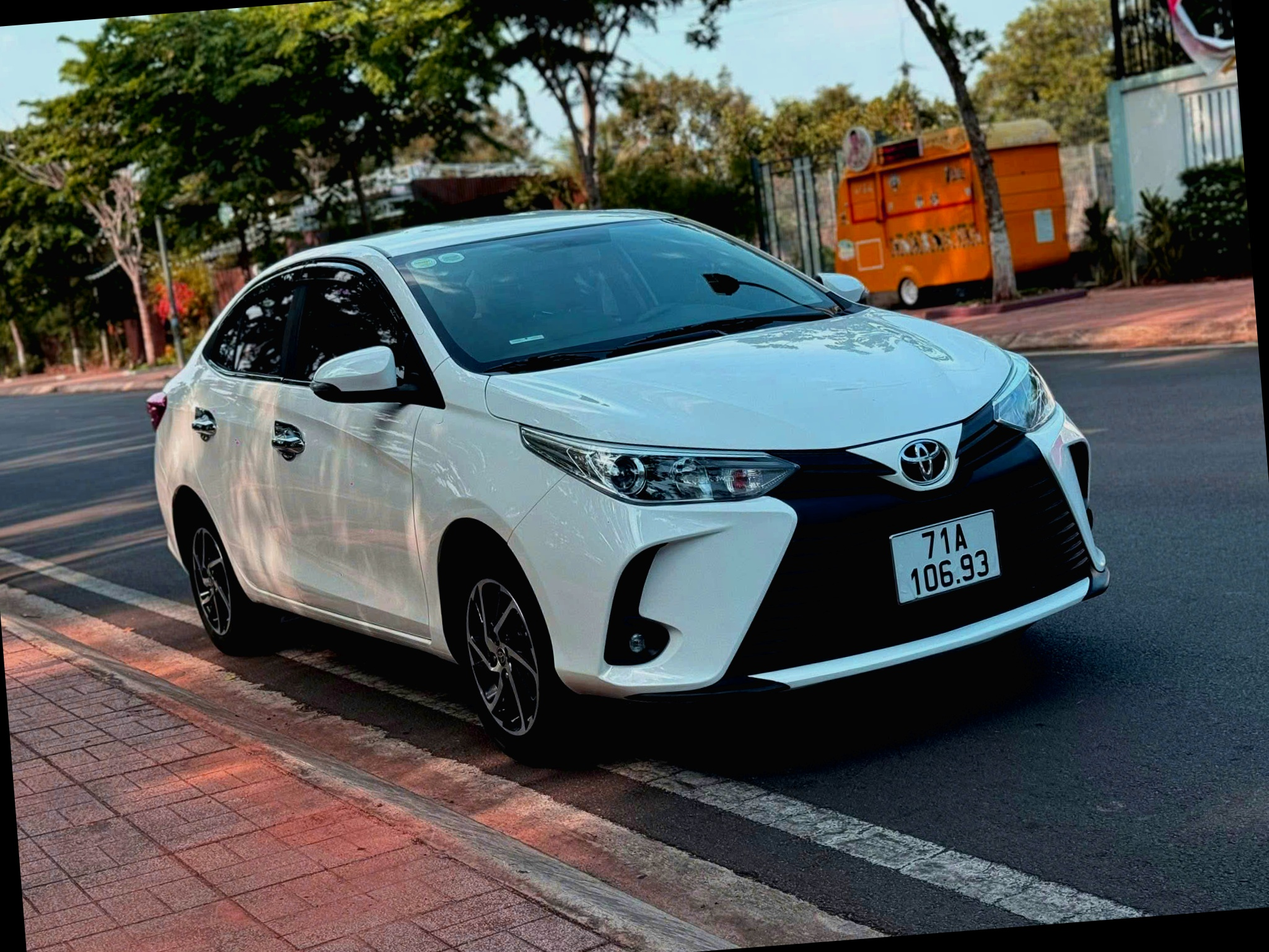Bien-so: (885, 506, 1006, 601)
